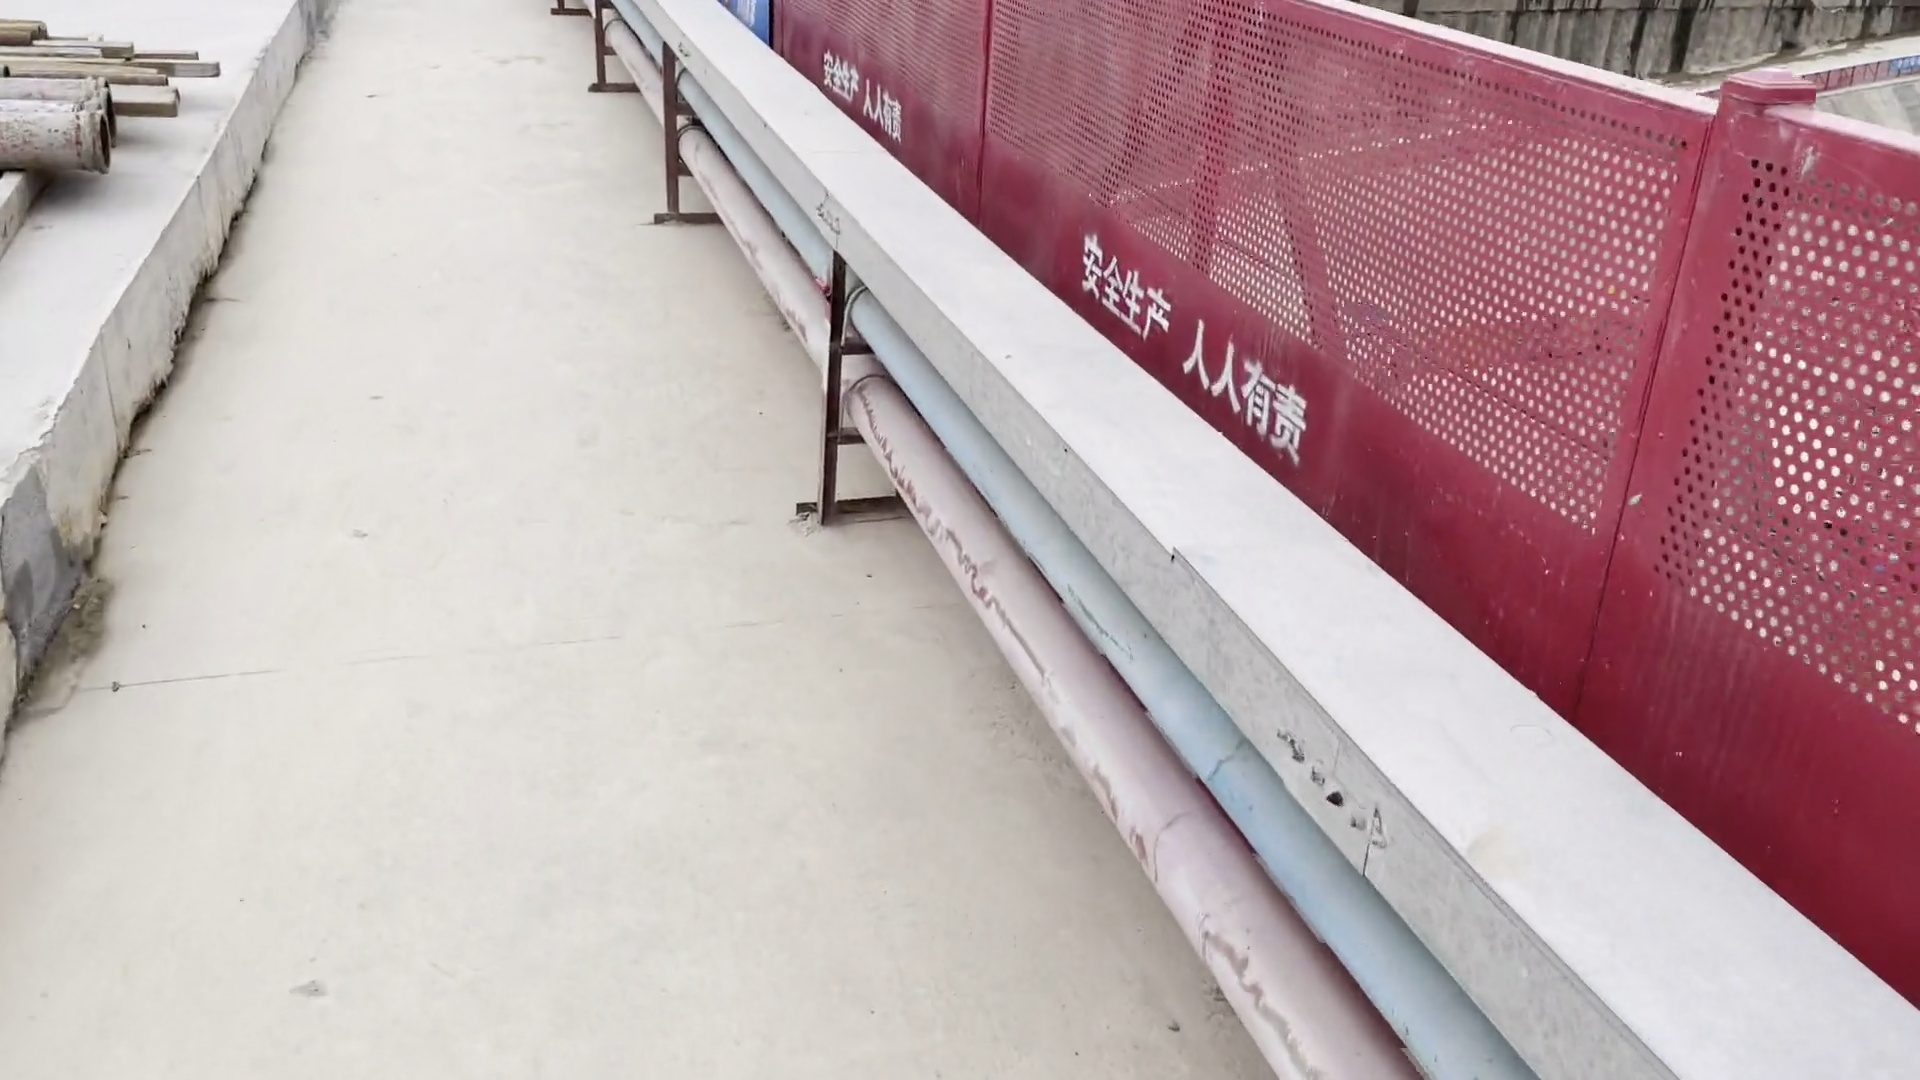fence: (725, 4, 1495, 665), (1485, 49, 1920, 1036)
wood: (3, 18, 227, 127)
